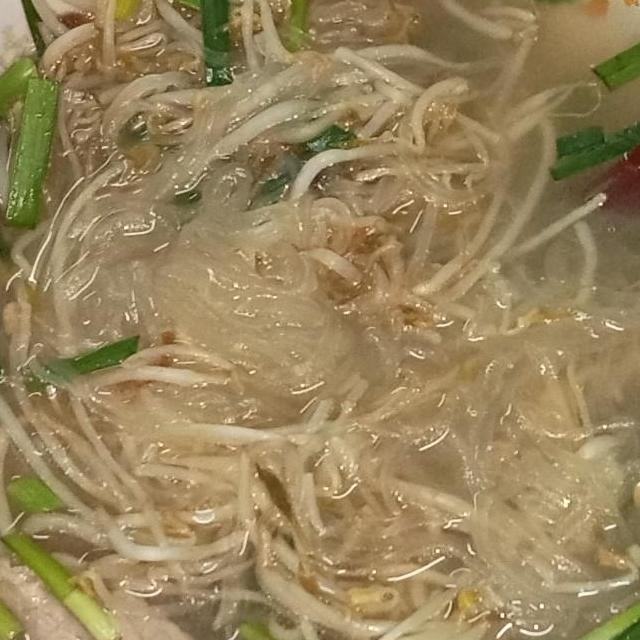banh hu tieu: (0, 43, 404, 435), (286, 275, 640, 640)
hu tieu: (0, 0, 640, 640)
thit heo: (0, 539, 255, 640)
